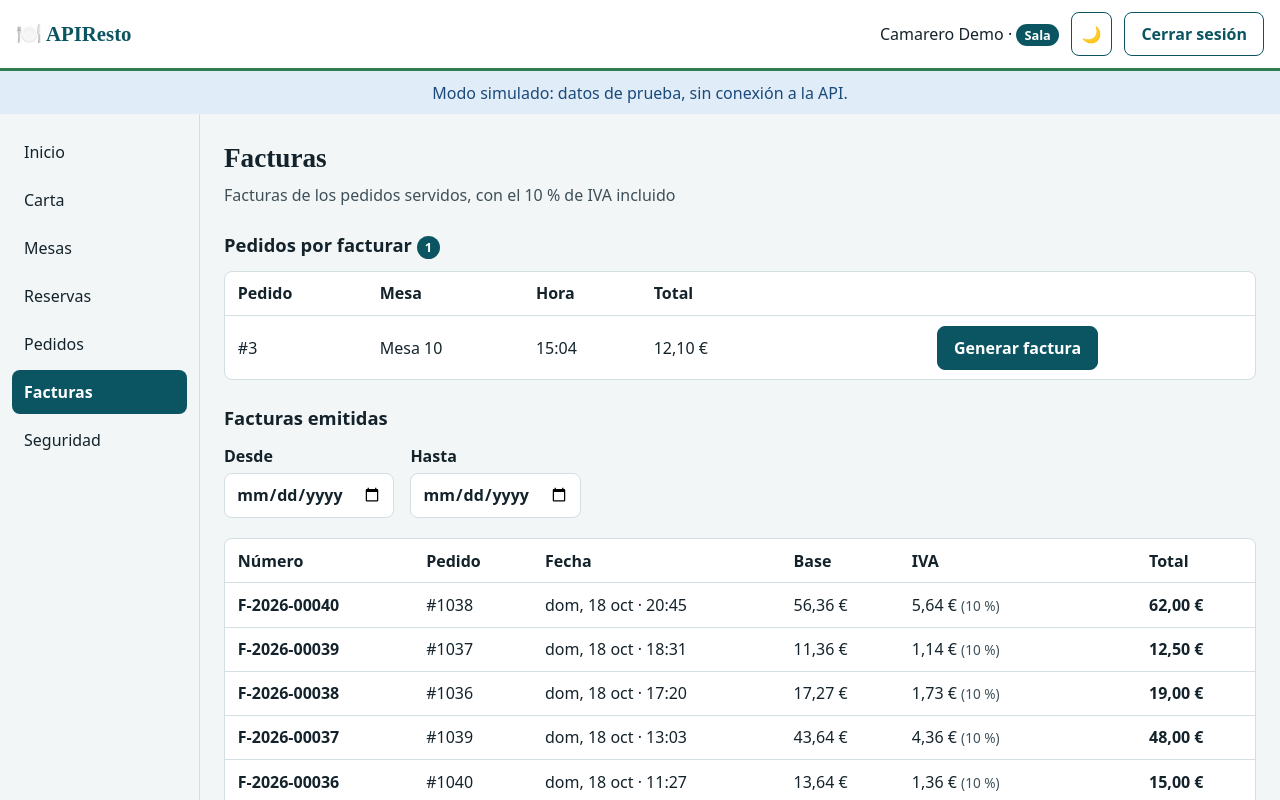
Test: Facturas (HU-14) › el camarero factura un pedido servido tras confirmarlo y la ve en la lista
The image size is (1280, 800).
Click the button with aria-label "Generar factura del pedido 3" at (1018, 348), box [937,326,1098,370]
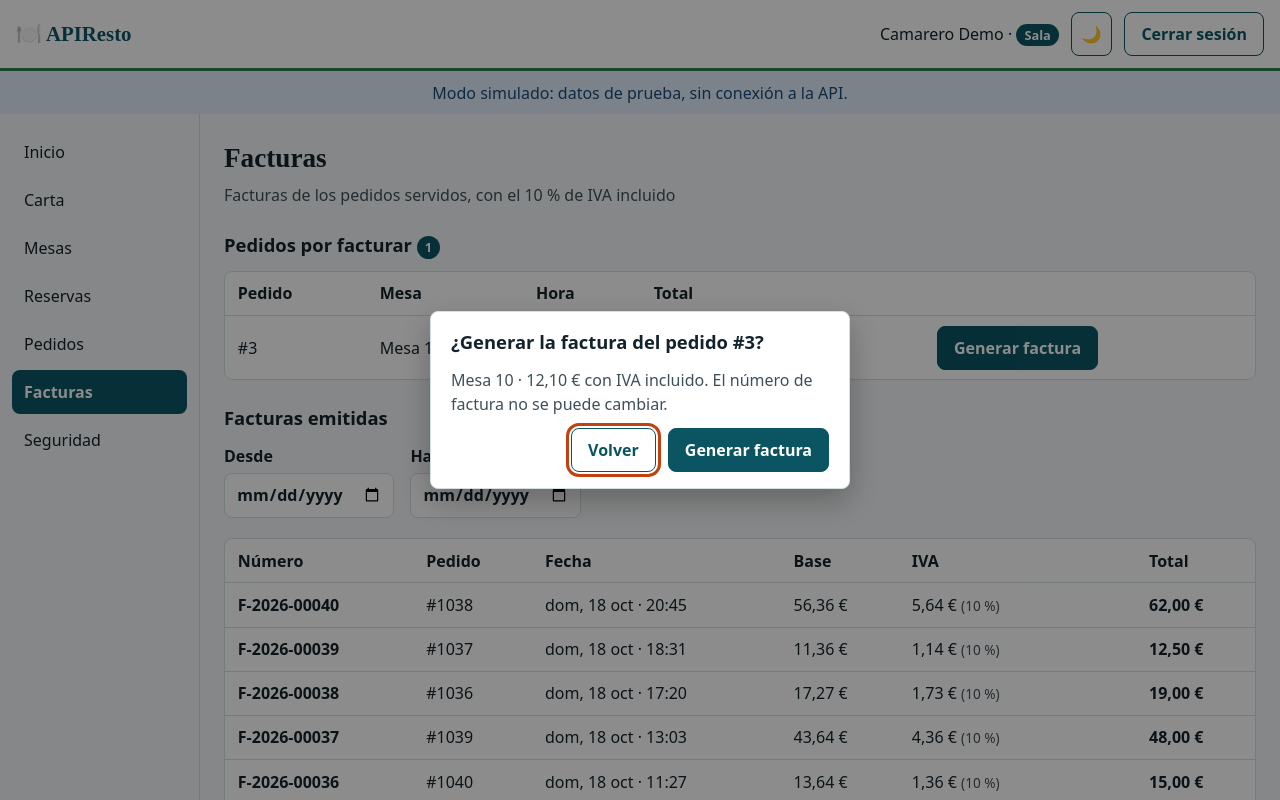
Click the button "Generar factura" at (748, 450), box [668,428,829,472]
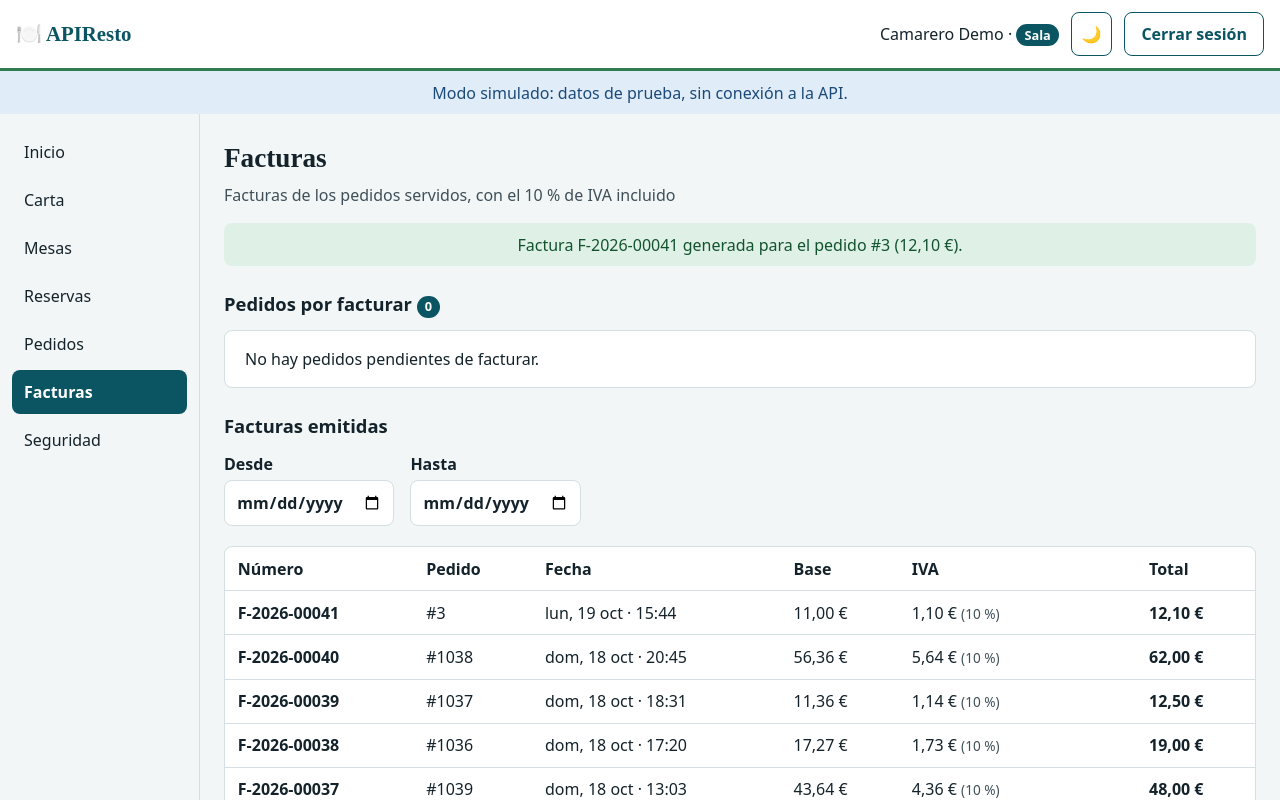
Check: the text "No hay pedidos pendientes de facturar." is shown, box [224,330,1256,388]
